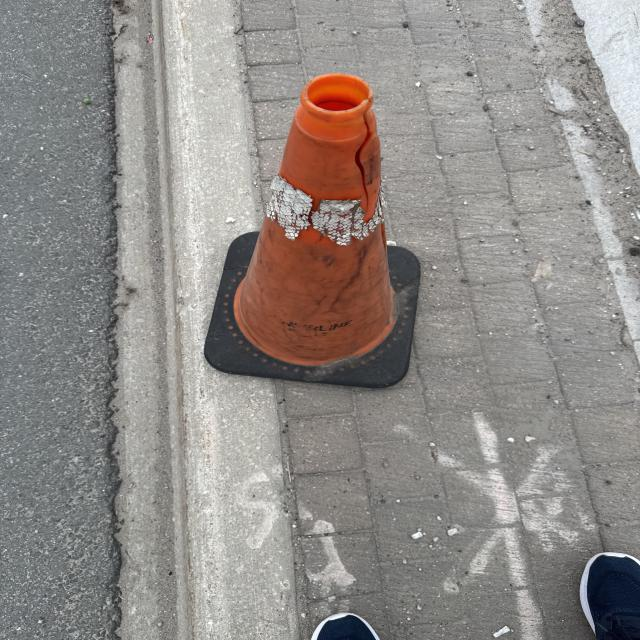Traffic Cone: (201, 72, 427, 389)
